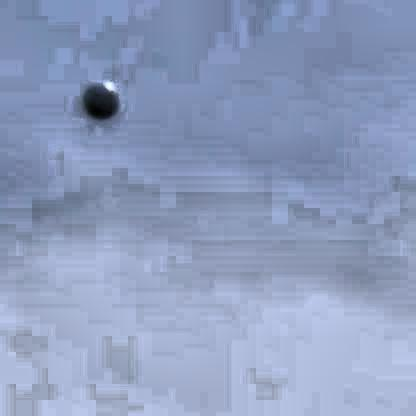golfball: (79, 79, 118, 118)
